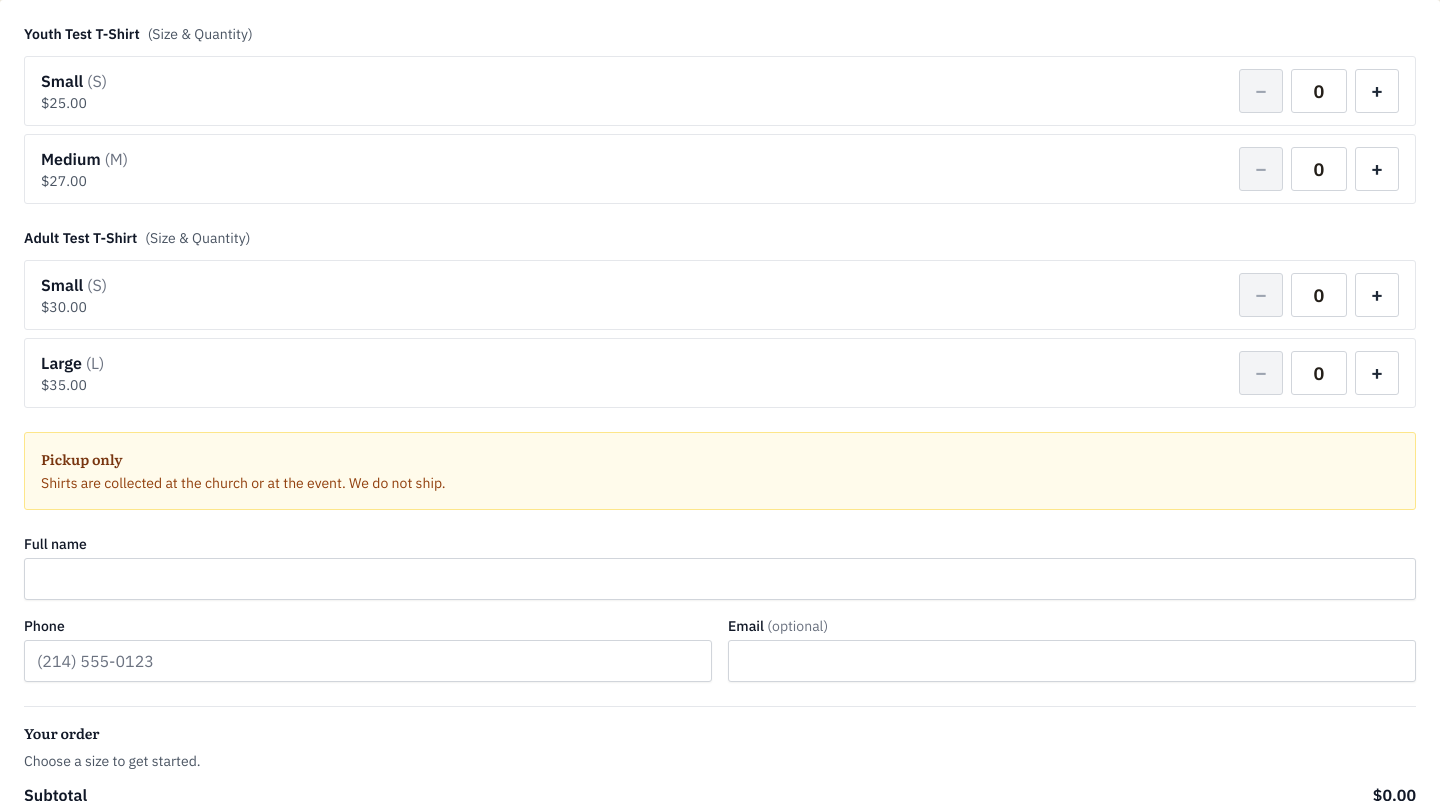
Test: ShirtOrderForm — phone number › refuses a number that is not ten digits
Replace the text in the number field labelled "Small (S)" in the row of "$30.00" with "1" at (1319, 295), box left=1291, top=273, right=1347, bottom=317
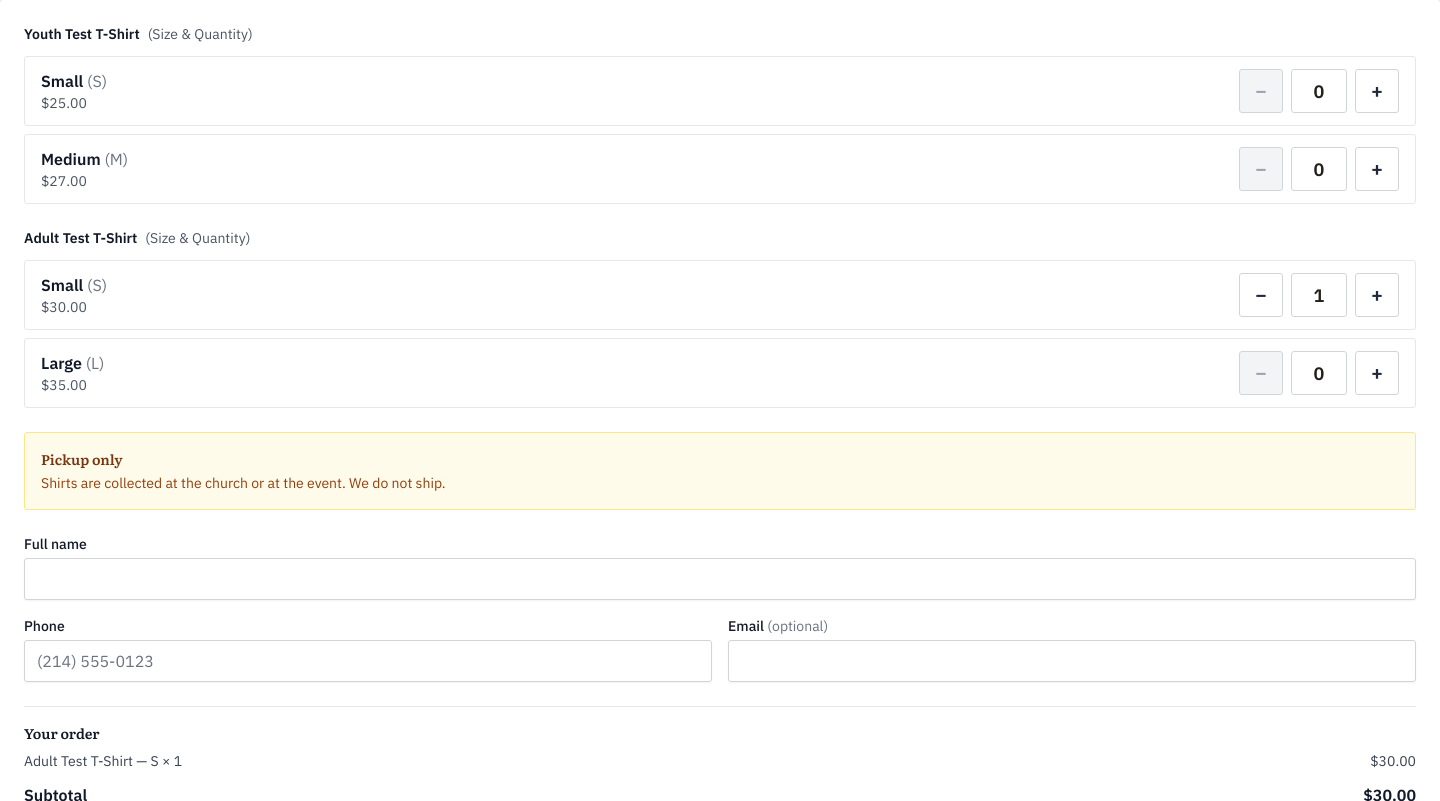
Type "Test Purchaser" into the field labelled "Full name" at (720, 579), box left=24, top=558, right=1416, bottom=600
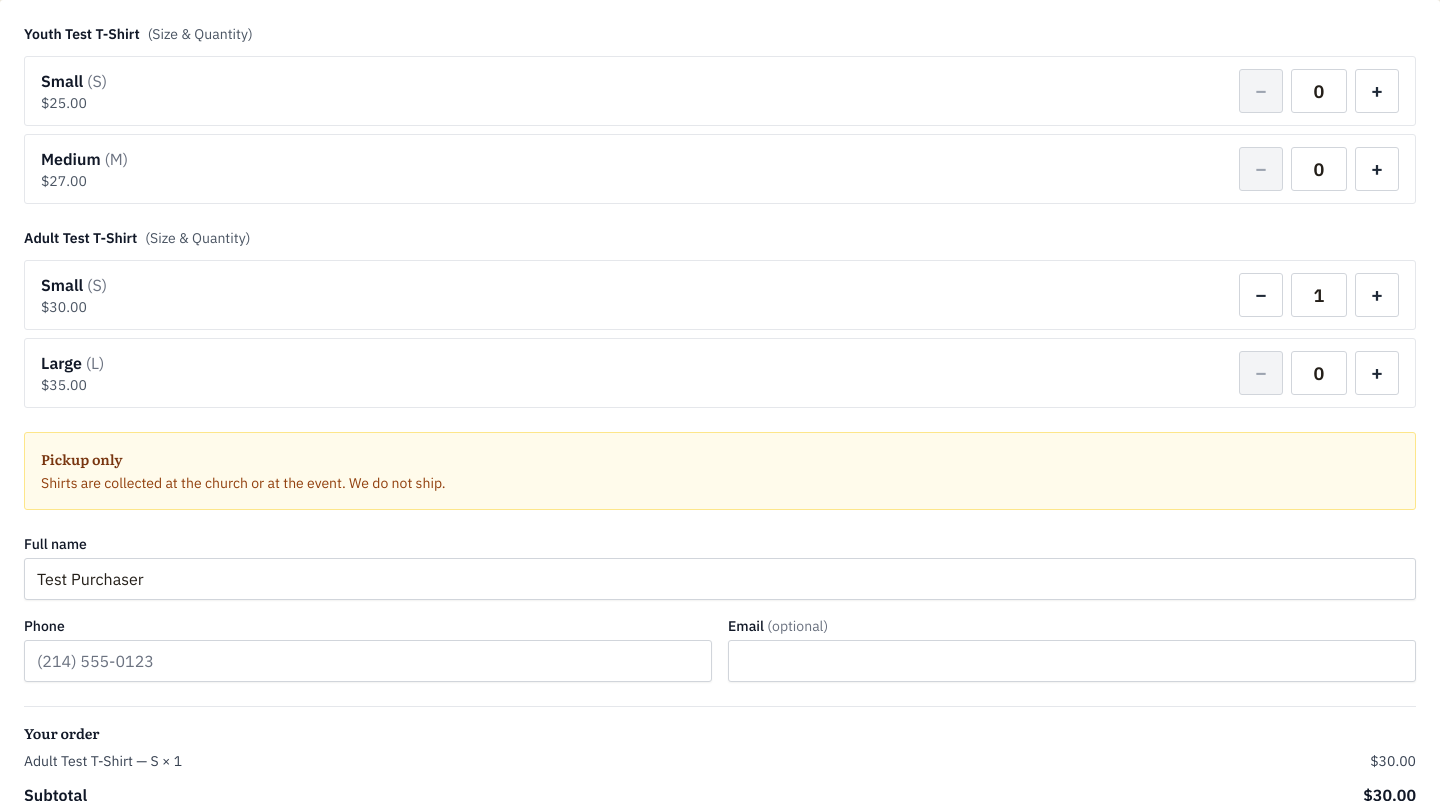
Type "214555" into the field labelled "Phone" at (368, 661), box left=24, top=640, right=712, bottom=682
(page scrolled)
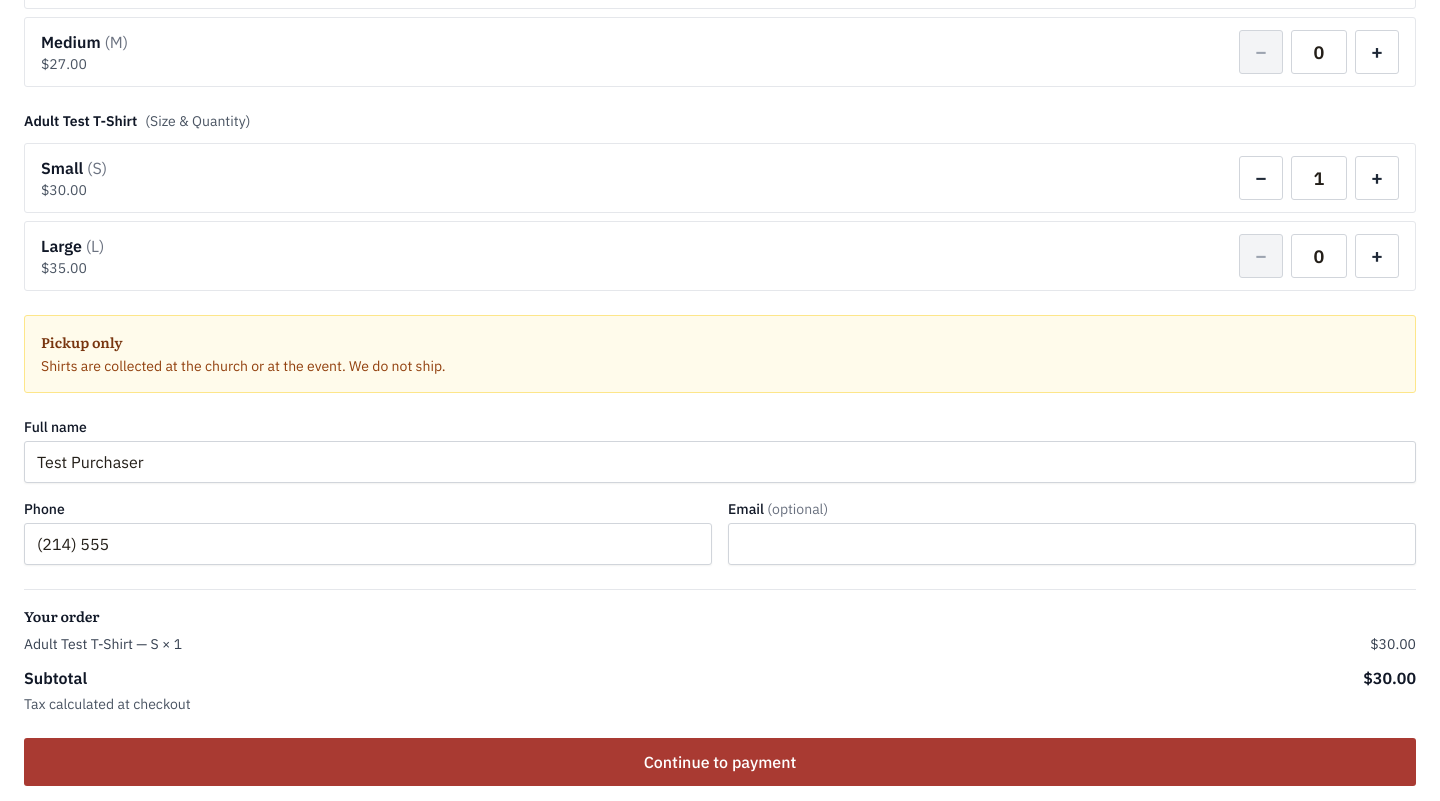
Click the button "Continue to payment" at (720, 762), box left=24, top=738, right=1416, bottom=786
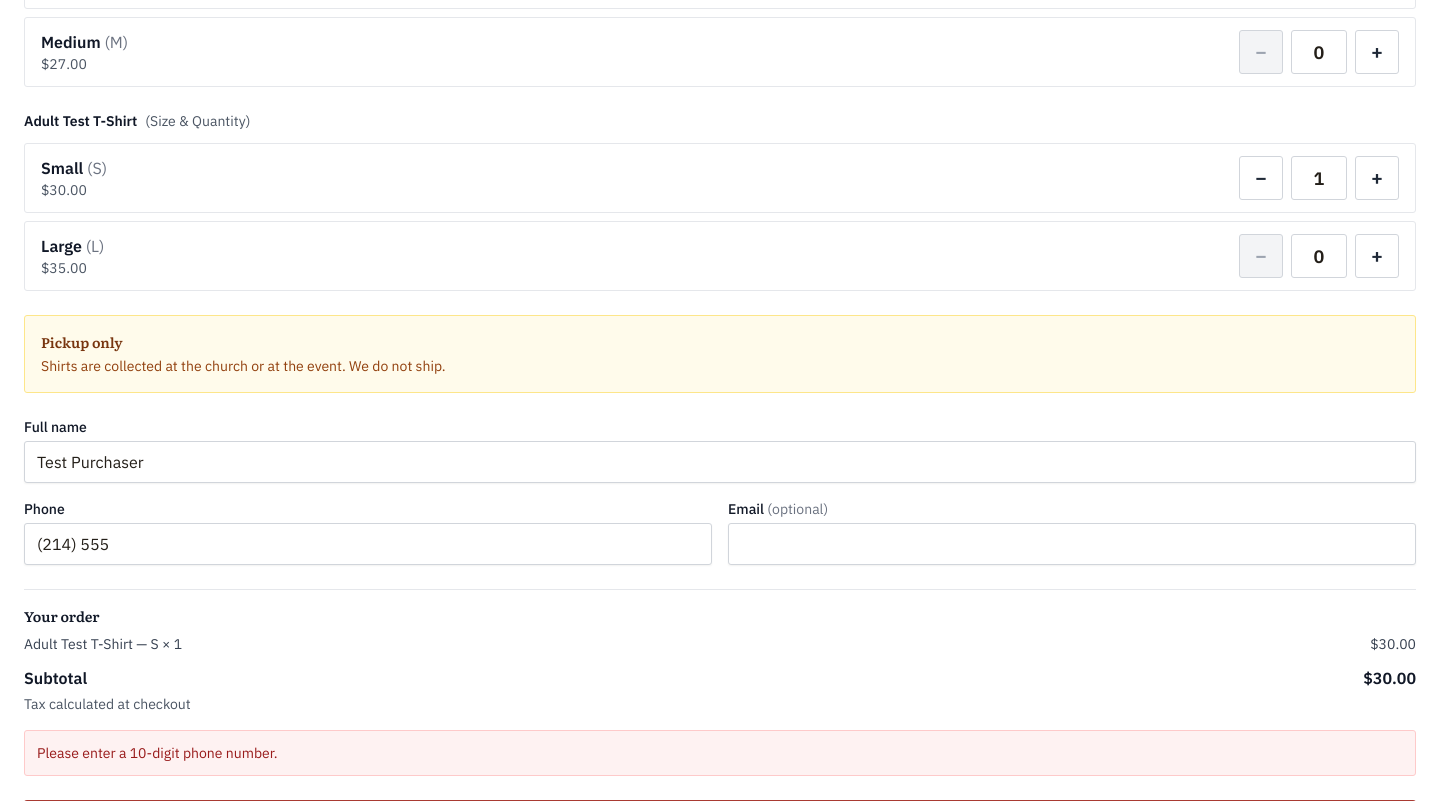
Check: the message shows "10-digit", box left=37, top=744, right=278, bottom=762
